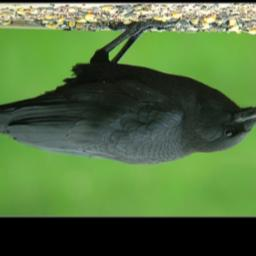Crow: (0, 15, 256, 164)
